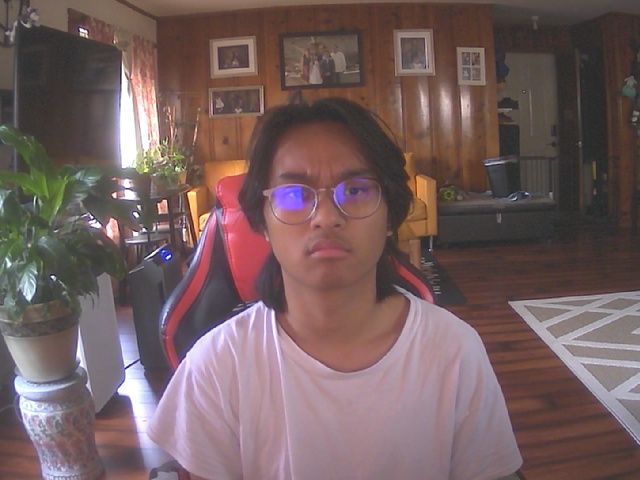anger: (258, 106, 400, 294)
